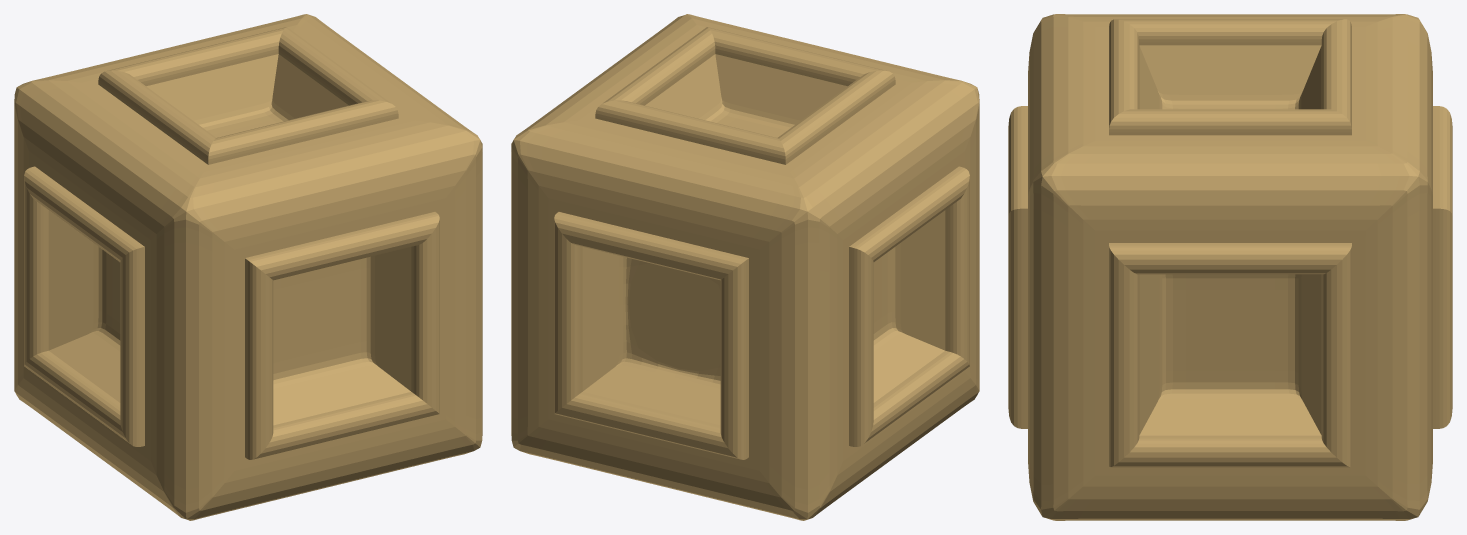
The model's file is Fcube.fbx.
3 renders of one model, left to right at view 1: azimuth 30°, elevation 25°; view 2: azimuth 150°, elevation 25°; view 3: azimuth 270°, elevation 25°, orthographic. The views are drawn at different scales.
Parts seen in each view (by area): view 1: Cube; view 2: Cube; view 3: Cube.
Part boxes in pixels (<box>): Cube: <box>14,14,482,520</box>; Cube: <box>511,14,979,520</box>; Cube: <box>1008,14,1452,520</box>.
Bounding box in the file's own units: 219 × 219 × 219.
